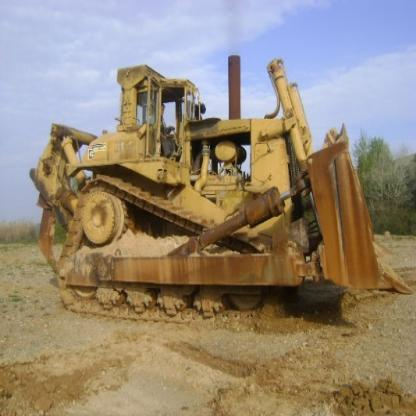bull_dozer/loader/grader: (24, 40, 414, 336)
